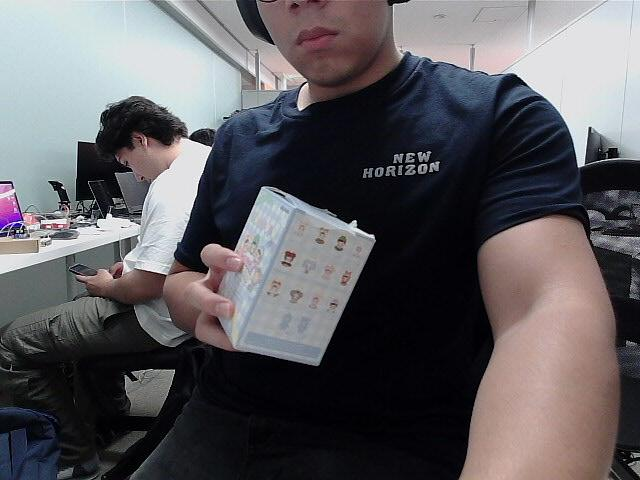Blind_box: (205, 185, 375, 378)
